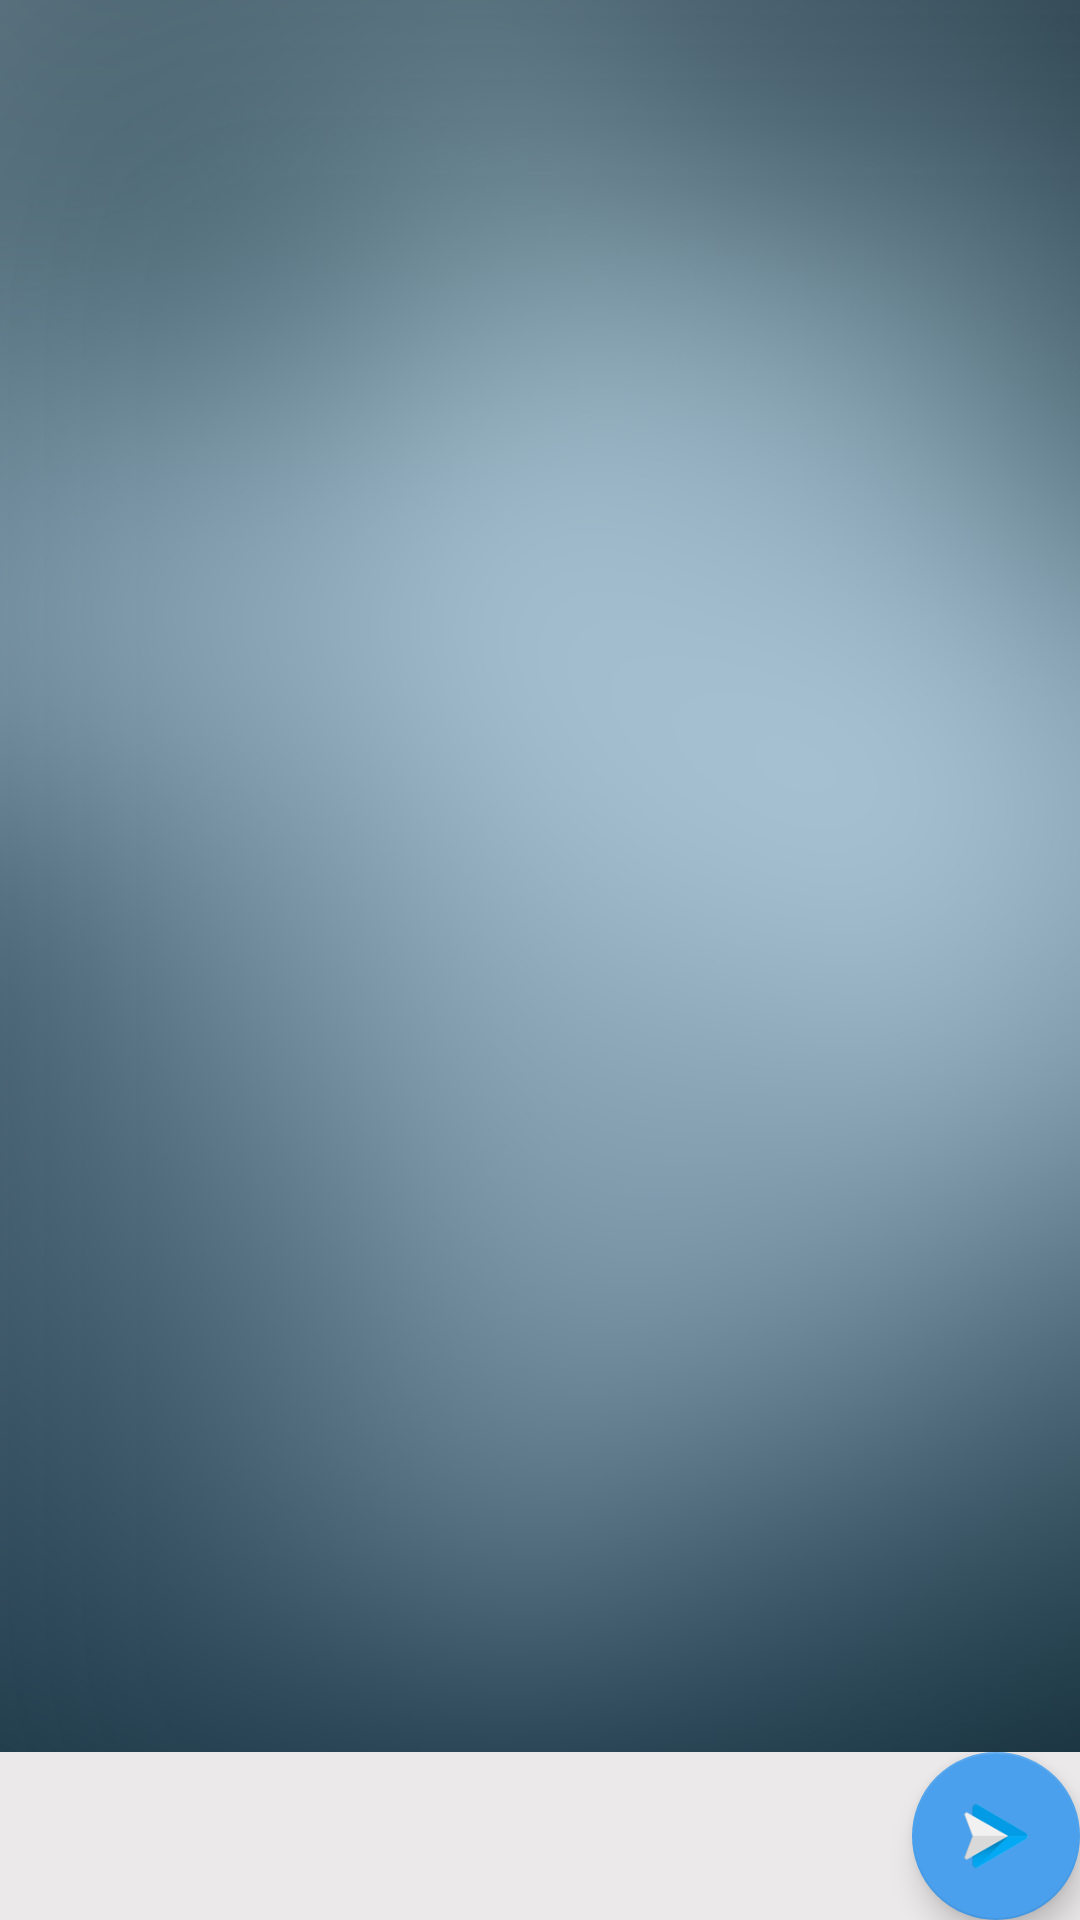

Icon click points for this 1080*1920 phone screenshot, format point (x, y):
send: point (996, 1836)
